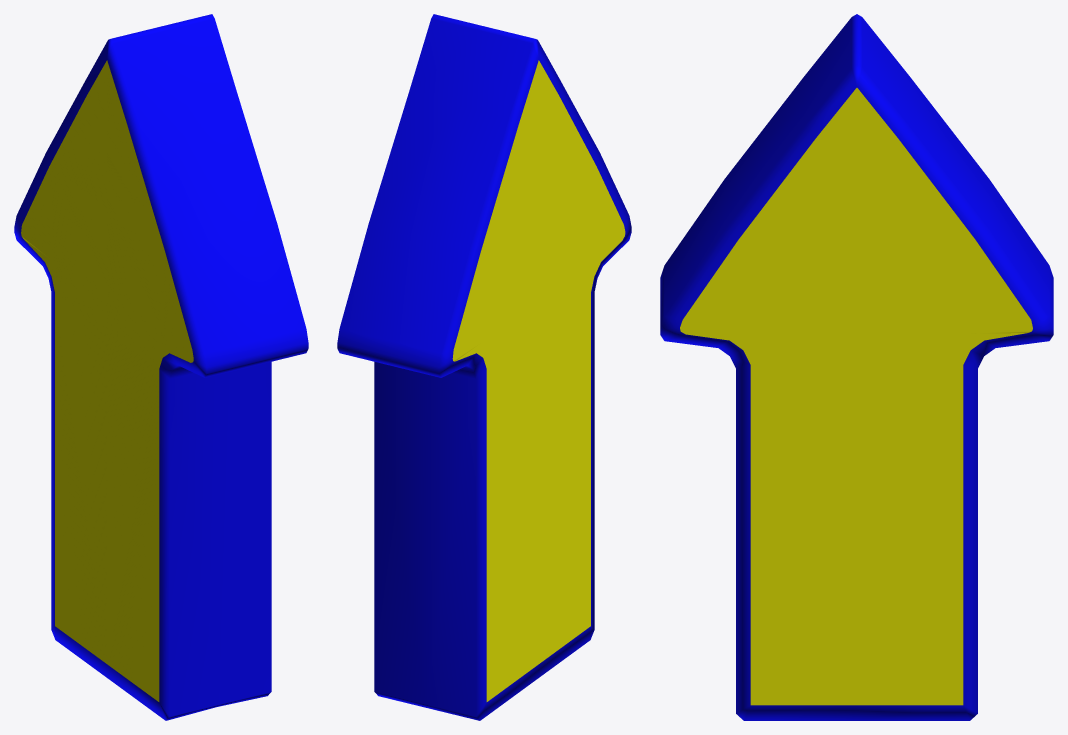
The model's file is ArrowFixed.fbx.
The picture shows the model from 3 angles, left to right: view 1: azimuth 30°, elevation 25°; view 2: azimuth 150°, elevation 25°; view 3: azimuth 270°, elevation 25°; orthographic projection. The views are drawn at different scales.
Visible parts, largest first — view 1: Stroller_Arrow2; view 2: Stroller_Arrow2; view 3: Stroller_Arrow2.
Part boxes in pixels (box(x1,y1,x2,y2)): Stroller_Arrow2: box(14, 14, 308, 720); Stroller_Arrow2: box(337, 14, 631, 720); Stroller_Arrow2: box(660, 14, 1053, 720).
Size of the model in its own units: 7.56 by 42.63 by 23.17.
